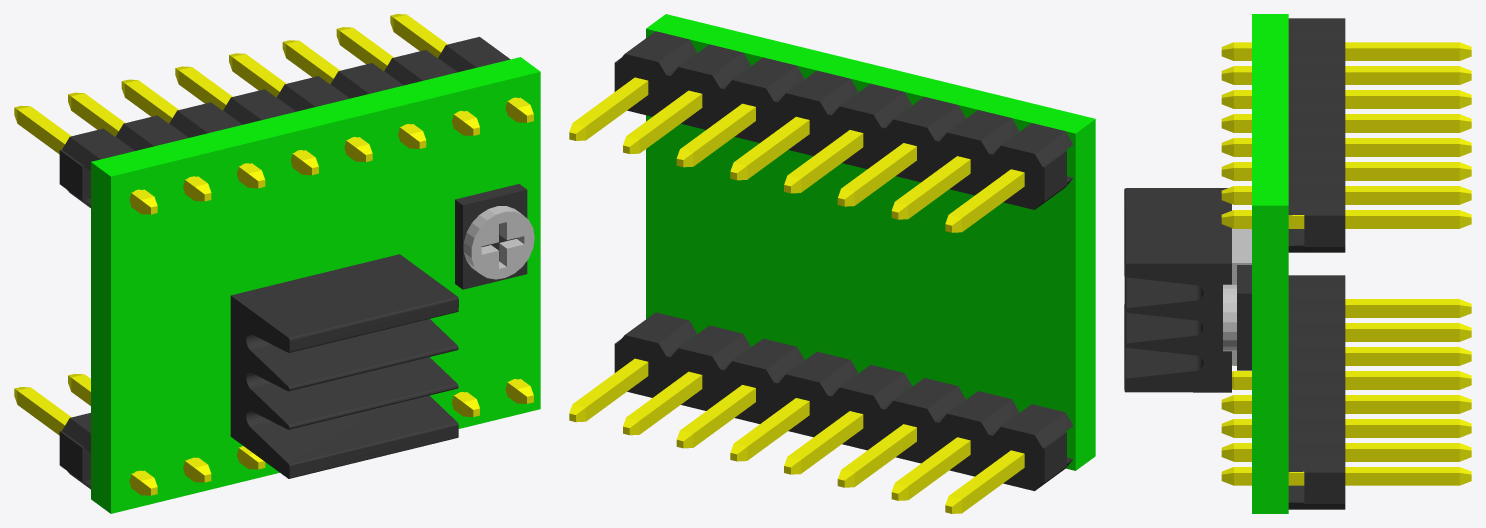
The model's file is stepper-driver.glb.
3 renders of one model, left to right at view 1: azimuth 30°, elevation 25°; view 2: azimuth 150°, elevation 25°; view 3: azimuth 270°, elevation 25°, orthographic. The views are drawn at different scales.
Visible parts, largest first — view 1: part0, part2, part3, part1; view 2: part0, part2, part3; view 3: part2, part3, part0, part1.
Part boxes in pixels (left/top/right/bottom): part0: left=91, top=57, right=540, bottom=513; part2: left=59, top=36, right=527, bottom=489; part3: left=14, top=14, right=533, bottom=495; part1: left=463, top=206, right=534, bottom=279; part0: left=646, top=14, right=1095, bottom=470; part2: left=614, top=31, right=1073, bottom=491; part3: left=569, top=77, right=1024, bottom=513; part2: left=1124, top=18, right=1345, bottom=509; part3: left=1221, top=42, right=1471, bottom=485; part0: left=1252, top=14, right=1288, bottom=513; part1: left=1223, top=228, right=1251, bottom=365.
Size of the model in its own units: 0.0203 by 0.0152 by 0.0156.
